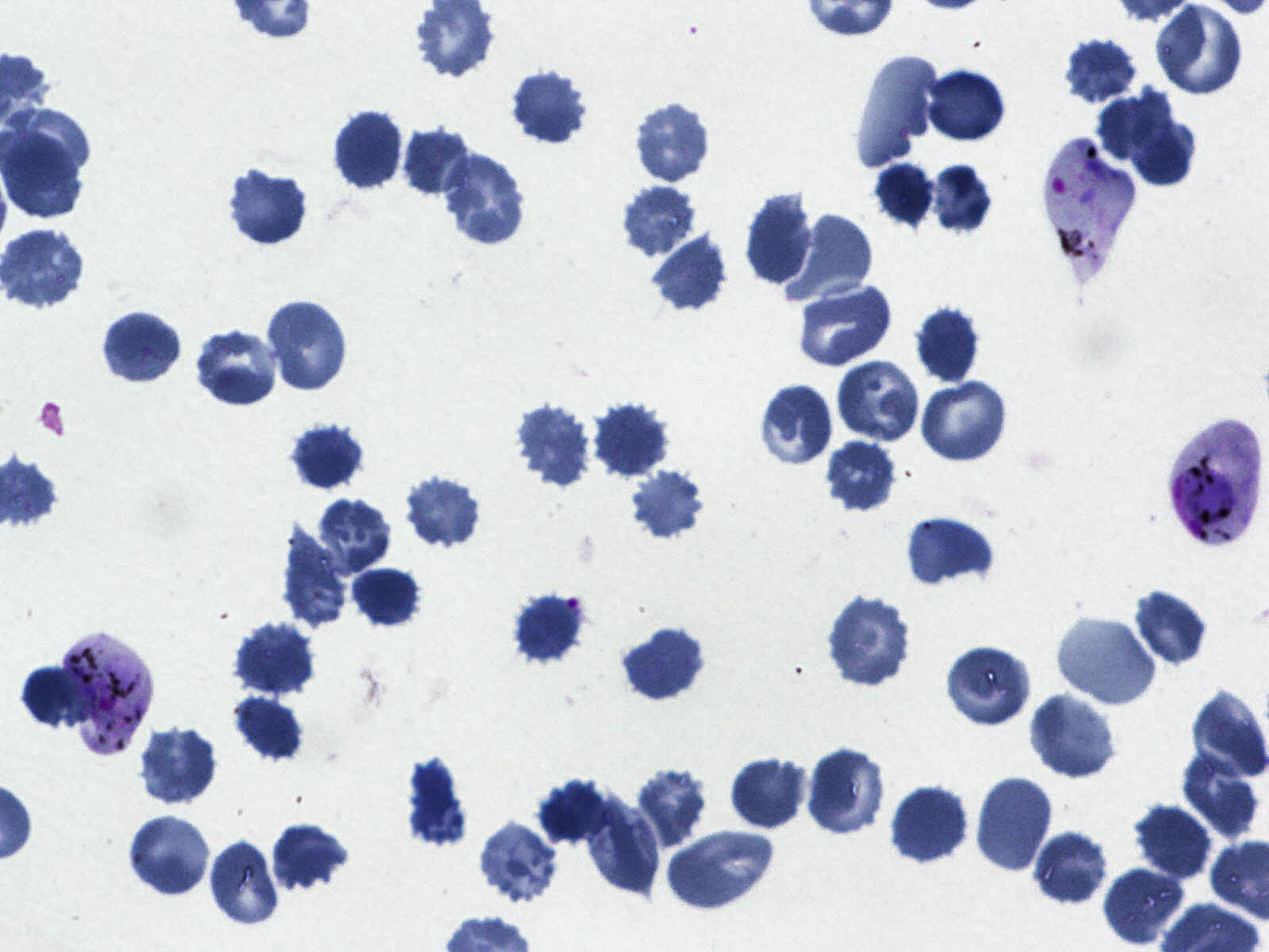Infected: (1170, 417, 1265, 547), (1049, 137, 1137, 270), (63, 634, 154, 756)
Uninfected: (853, 52, 937, 172), (1057, 616, 1160, 709), (665, 827, 773, 911), (1156, 0, 1244, 98), (799, 280, 895, 367), (980, 773, 1056, 879), (917, 375, 1009, 462), (441, 152, 526, 246), (783, 212, 872, 301), (1028, 693, 1118, 781), (826, 595, 911, 688), (270, 298, 351, 395), (836, 358, 922, 447), (945, 643, 1036, 727), (586, 800, 665, 896), (807, 747, 889, 839), (1181, 750, 1262, 840), (1190, 686, 1267, 780), (1103, 861, 1187, 947), (476, 821, 561, 905), (205, 839, 283, 930), (128, 815, 213, 898), (197, 325, 280, 408), (760, 381, 838, 469), (512, 397, 589, 486), (101, 307, 184, 389), (283, 520, 346, 628), (743, 194, 814, 289), (228, 164, 308, 248), (907, 512, 995, 586), (891, 785, 971, 866), (139, 725, 219, 805), (315, 497, 393, 579), (1028, 829, 1111, 906), (509, 69, 589, 148), (402, 473, 481, 552), (236, 620, 316, 697), (633, 768, 710, 847), (270, 819, 351, 894), (335, 107, 405, 193), (1097, 83, 1175, 160), (627, 626, 706, 702), (624, 467, 707, 539), (926, 68, 1004, 144), (404, 758, 471, 846), (731, 756, 810, 830), (595, 399, 667, 479), (1137, 803, 1210, 881), (1060, 32, 1138, 105), (823, 438, 897, 514), (654, 233, 726, 311), (231, 695, 304, 770), (638, 106, 710, 182), (509, 596, 587, 665), (922, 159, 991, 235), (1134, 591, 1206, 663), (290, 422, 364, 492), (917, 305, 980, 387), (401, 126, 471, 198), (623, 186, 696, 255), (352, 565, 427, 631), (535, 780, 611, 845), (872, 159, 937, 232), (1134, 121, 1198, 188)
